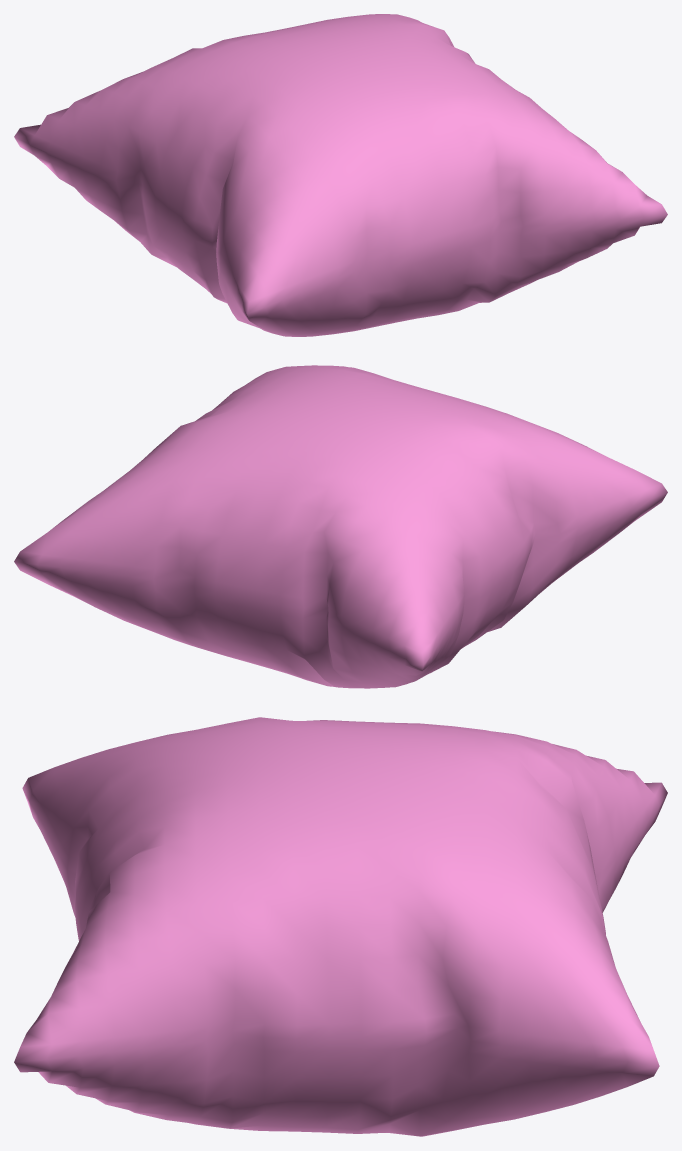
File: KissenRosa.fbx
The picture shows the model from 3 angles, top to bottom: view 1: azimuth 30°, elevation 25°; view 2: azimuth 150°, elevation 25°; view 3: azimuth 270°, elevation 25°; orthographic projection. The views are drawn at different scales.
Parts seen in each view (by area): view 1: Plane; view 2: Plane; view 3: Plane.
Part boxes in pixels (<box>): Plane: <box>14,14,667,336</box>; Plane: <box>14,365,667,688</box>; Plane: <box>14,717,667,1136</box>.
Bounding box in the file's own units: 194 × 104 × 193.
Materials: 1 (1 with a texture image).
